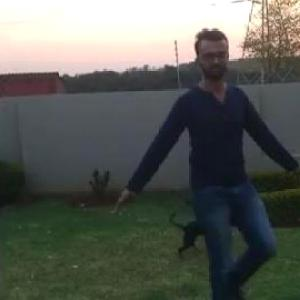land: (122, 54, 299, 295)
